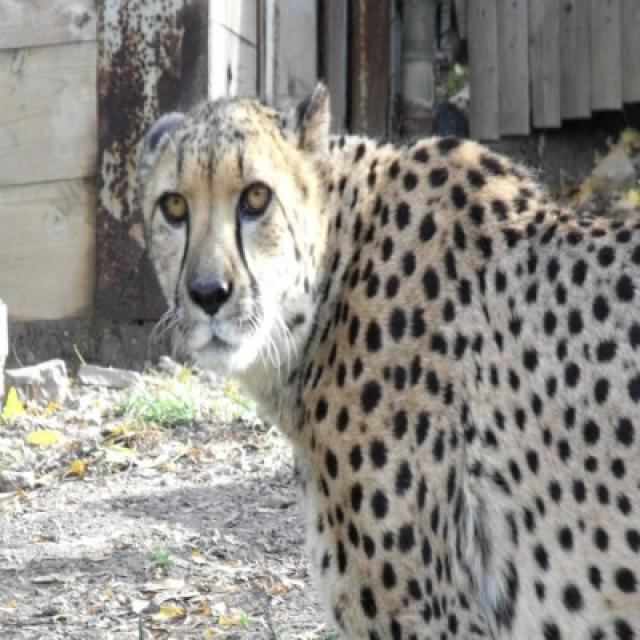Cheetah: (134, 83, 638, 638)
